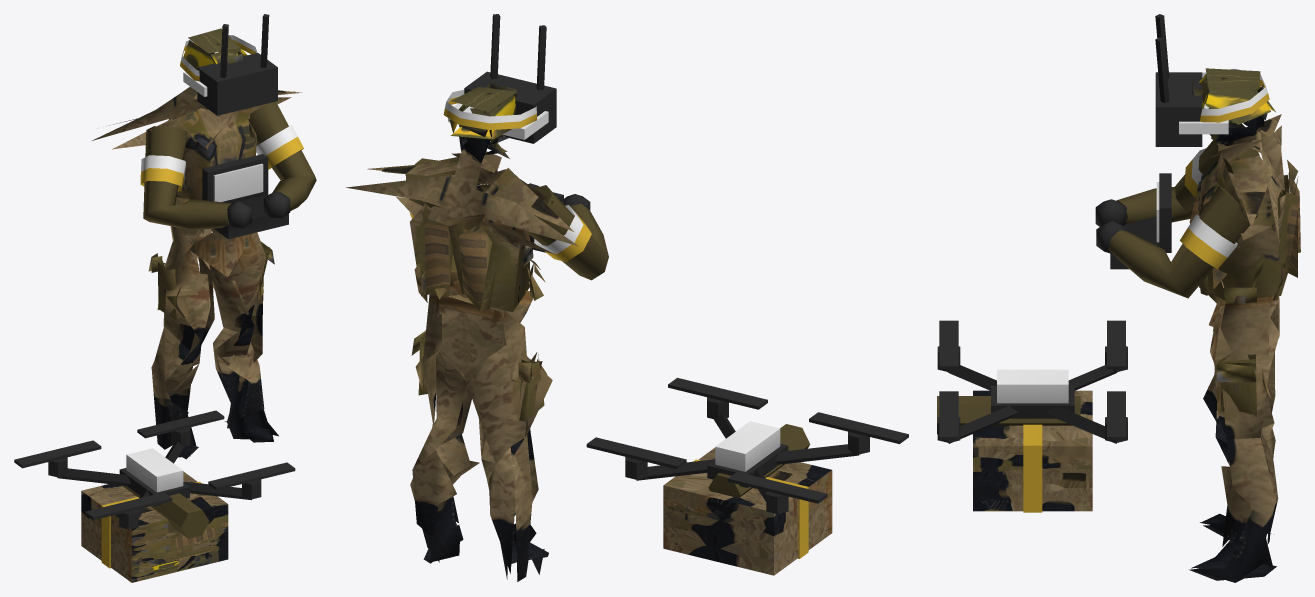
The model's file is ua-fpv-team.glb.
3 renders of one model, left to right at view 1: azimuth 30°, elevation 25°; view 2: azimuth 150°, elevation 25°; view 3: azimuth 270°, elevation 25°, orthographic. The views are drawn at different scales.
Parts seen in each view (by area): view 1: limb_o_hips, limb_o_arms, limb_x_quad, limb_x_crate, limb_o_shin_r, limb_o_thigh_l, limb_o_shin_l, limb_o_thigh_r; view 2: limb_o_hips, limb_x_crate, limb_x_quad, limb_o_thigh_l, limb_o_shin_r, limb_o_shin_l, limb_o_arms, limb_o_thigh_r; view 3: limb_o_hips, limb_o_arms, limb_x_quad, limb_x_crate, limb_o_shin_r, limb_o_thigh_r, limb_o_thigh_l, limb_o_shin_l.
Part boxes in pixels (<box>): limb_o_hips: <box>92,14,302,277</box>; limb_o_arms: <box>140,101,316,239</box>; limb_x_quad: <box>14,410,295,538</box>; limb_x_crate: <box>81,471,228,582</box>; limb_o_shin_r: <box>213,315,278,442</box>; limb_o_thigh_l: <box>148,241,214,380</box>; limb_o_shin_l: <box>151,326,201,459</box>; limb_o_thigh_r: <box>197,232,274,339</box>; limb_o_hips: <box>346,14,578,378</box>; limb_x_crate: <box>663,447,832,575</box>; limb_x_quad: <box>586,377,908,514</box>; limb_o_thigh_l: <box>464,327,552,498</box>; limb_o_shin_r: <box>410,424,479,563</box>; limb_o_shin_l: <box>481,429,548,581</box>; limb_o_arms: <box>405,158,608,280</box>; limb_o_thigh_r: <box>411,330,471,468</box>; limb_o_hips: <box>1155,14,1300,371</box>; limb_o_arms: <box>1095,140,1259,298</box>; limb_x_quad: <box>937,320,1127,443</box>; limb_x_crate: <box>973,390,1092,512</box>; limb_o_shin_r: <box>1189,437,1278,582</box>; limb_o_thigh_r: <box>1210,327,1274,484</box>; limb_o_thigh_l: <box>1203,304,1275,428</box>; limb_o_shin_l: <box>1200,423,1275,540</box>.
Size of the model in its own units: 0.3958 by 0.499 by 0.3043.
4 materials, 1 textured.
